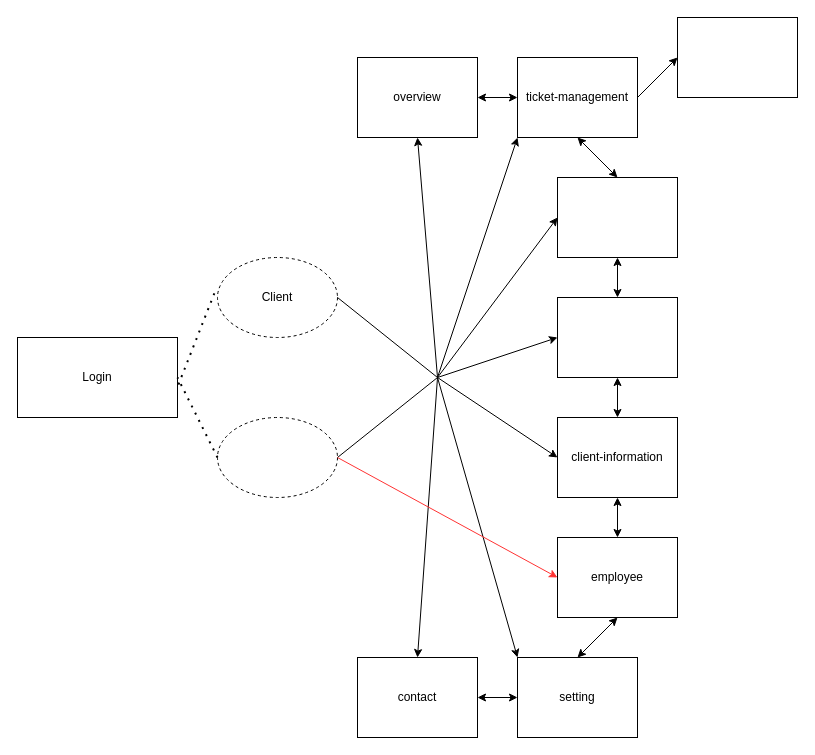
Image size: 815x755. Some labels were removed from this diagram. Each missing label, with the centre of its shape:
Admin: [277,457]
food-and-drinks: [617,217]
history: [617,337]
ticket-book-map: [737,57]
